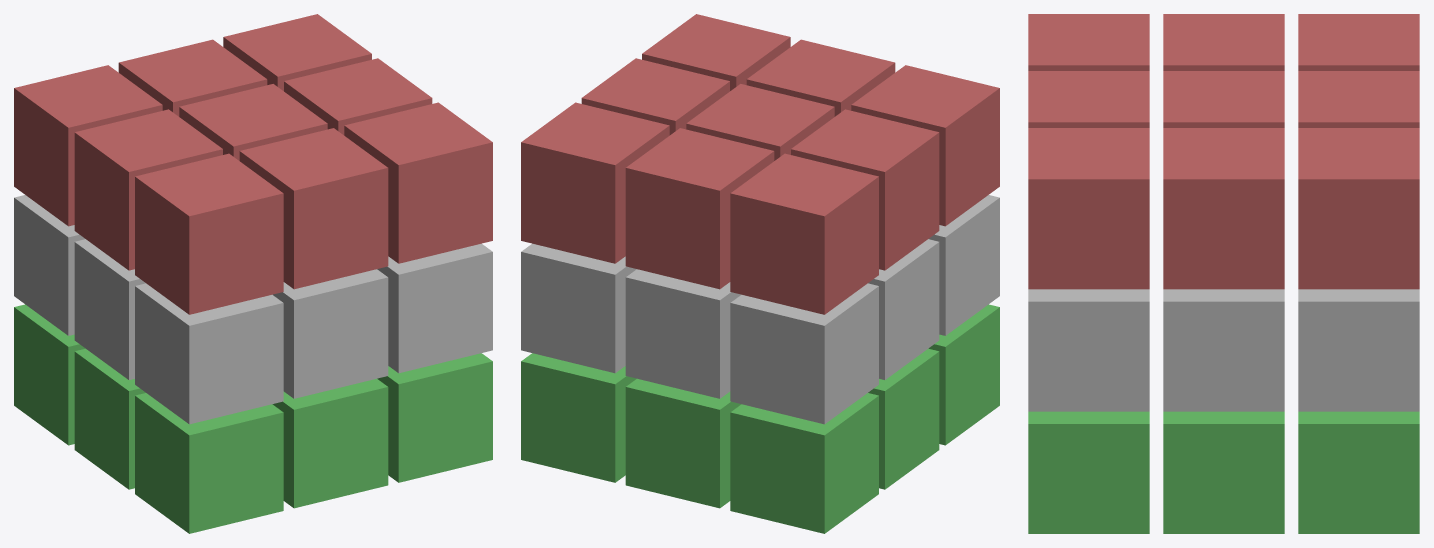
File: mock_house_3x3x3.glb
The picture shows the model from 3 angles, left to right: view 1: azimuth 30°, elevation 25°; view 2: azimuth 150°, elevation 25°; view 3: azimuth 270°, elevation 25°; orthographic projection. The views are drawn at different scales.
Visible parts, largest first — view 1: world; view 2: world; view 3: world.
Boxes of the visible parts, box(x1,y1,x2,y2) form: world: box(14, 14, 492, 533); world: box(521, 14, 999, 533); world: box(1028, 14, 1419, 533).
Size of the model in its own units: 2.9 by 2.9 by 2.9.
